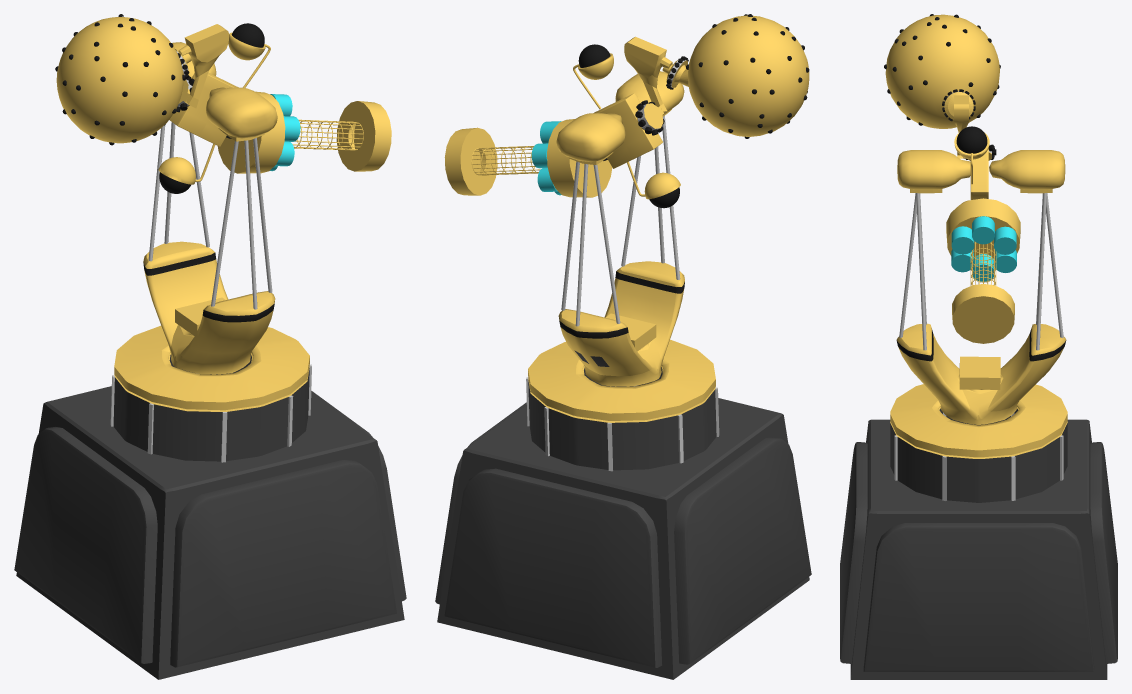
File: Projector.FBX
3 views of the same model, side by side, from view 1: azimuth 30°, elevation 25°; view 2: azimuth 150°, elevation 25°; view 3: azimuth 270°, elevation 25° (orthographic). The views are drawn at different scales.
Visible parts, largest first — view 1: Base, Part5, Part1, Part4, Part3, Part2; view 2: Base, Part5, Part1, Part4, Part3, Part2; view 3: Base, Part5, Part1, Part3, Part4, Part2.
Boxes of the visible parts, <box> form: Base: <box>14,325,406,679</box>; Part5: <box>55,14,228,145</box>; Part1: <box>143,241,275,374</box>; Part4: <box>158,23,277,193</box>; Part3: <box>217,91,391,173</box>; Part2: <box>148,122,272,309</box>; Base: <box>435,339,811,679</box>; Part5: <box>624,14,809,138</box>; Part1: <box>558,261,684,386</box>; Part4: <box>556,44,684,208</box>; Part3: <box>444,119,612,197</box>; Part2: <box>561,115,680,326</box>; Base: <box>840,384,1117,679</box>; Part5: <box>884,14,1000,158</box>; Part1: <box>896,323,1066,424</box>; Part3: <box>946,198,1020,343</box>; Part4: <box>897,126,1065,204</box>; Part2: <box>899,193,1063,350</box>.
Bounding box in the file's own units: 160 × 280 × 126.
